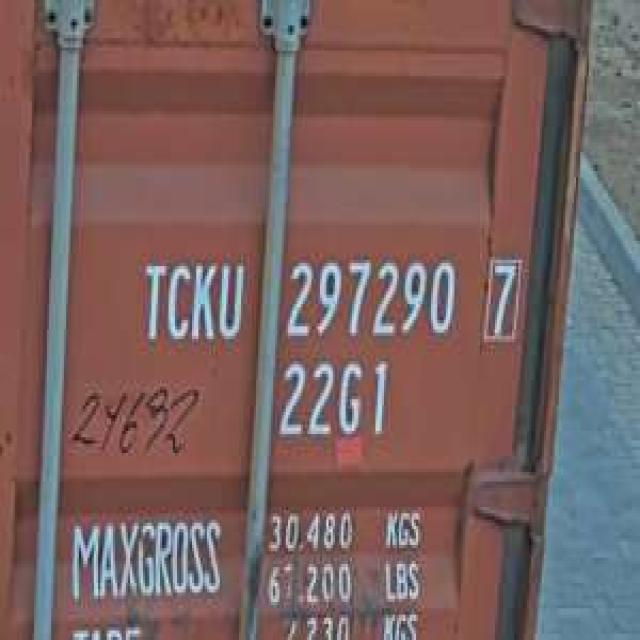dv: (478, 247, 523, 352)
owner: (136, 250, 248, 352)
serial: (279, 247, 461, 349)
size: (275, 352, 393, 450)
